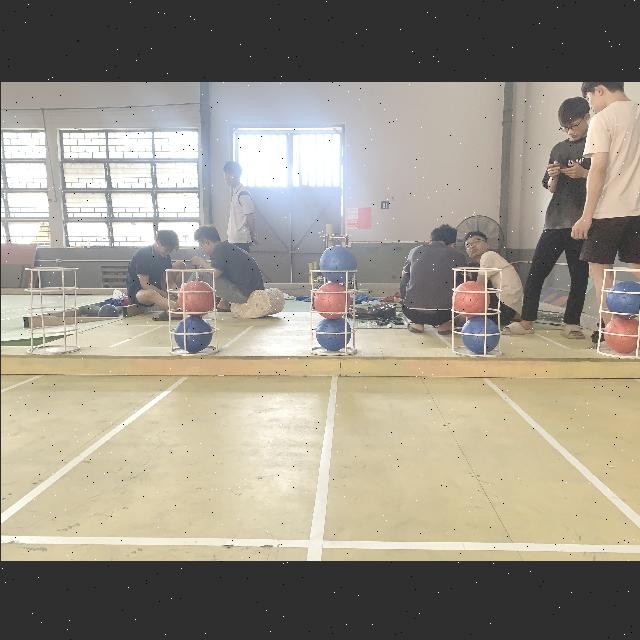B: (459, 316, 498, 354), (316, 244, 356, 280), (172, 315, 212, 351), (604, 278, 640, 316), (314, 316, 350, 349)
R: (450, 280, 490, 316), (602, 316, 640, 352), (175, 279, 212, 313), (313, 282, 349, 316)
